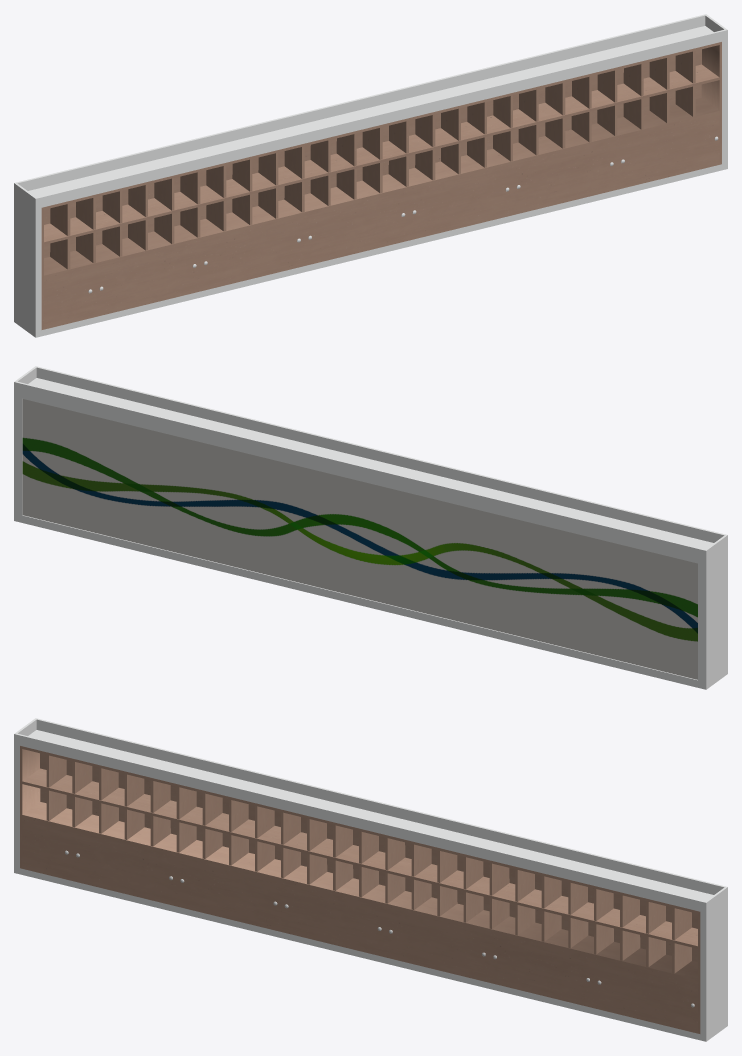
The model's file is ChuWuJia002.FBX.
3 renders of one model, top to bottom at view 1: azimuth 30°, elevation 25°; view 2: azimuth 150°, elevation 25°; view 3: azimuth 330°, elevation 25°, orthographic.
Parts seen in each view (by area): view 1: YF_Model_ChuWuJia002; view 2: YF_Model_ChuWuJia002; view 3: YF_Model_ChuWuJia002.
Part boxes in pixels (box(x1,y1,x2,y2)): YF_Model_ChuWuJia002: box(14, 14, 727, 337); YF_Model_ChuWuJia002: box(14, 366, 727, 689); YF_Model_ChuWuJia002: box(14, 718, 727, 1041).
Size of the model in its own units: 613 by 118 by 35.45.
